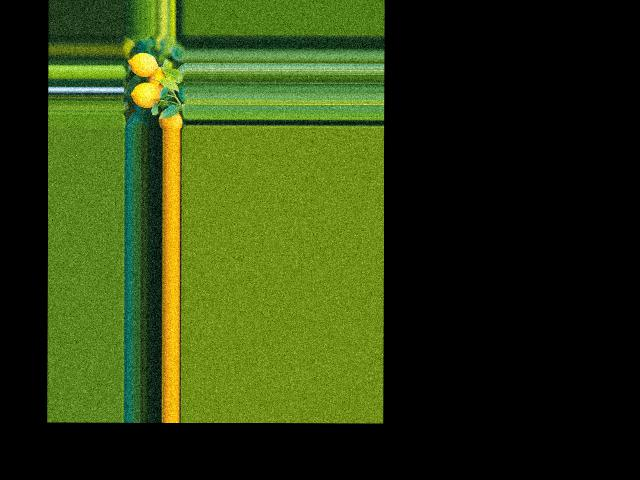lemon: (129, 52, 159, 76)
